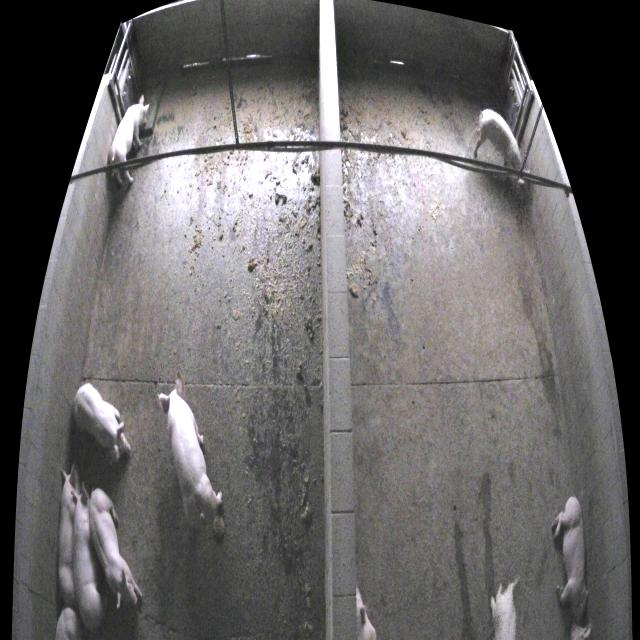pig: (159, 369, 222, 530), (89, 490, 142, 608), (71, 482, 106, 629), (73, 383, 131, 463), (552, 498, 588, 623), (109, 95, 149, 184), (59, 464, 80, 608), (474, 109, 522, 169), (491, 578, 520, 639), (356, 583, 376, 638), (56, 606, 82, 639)
